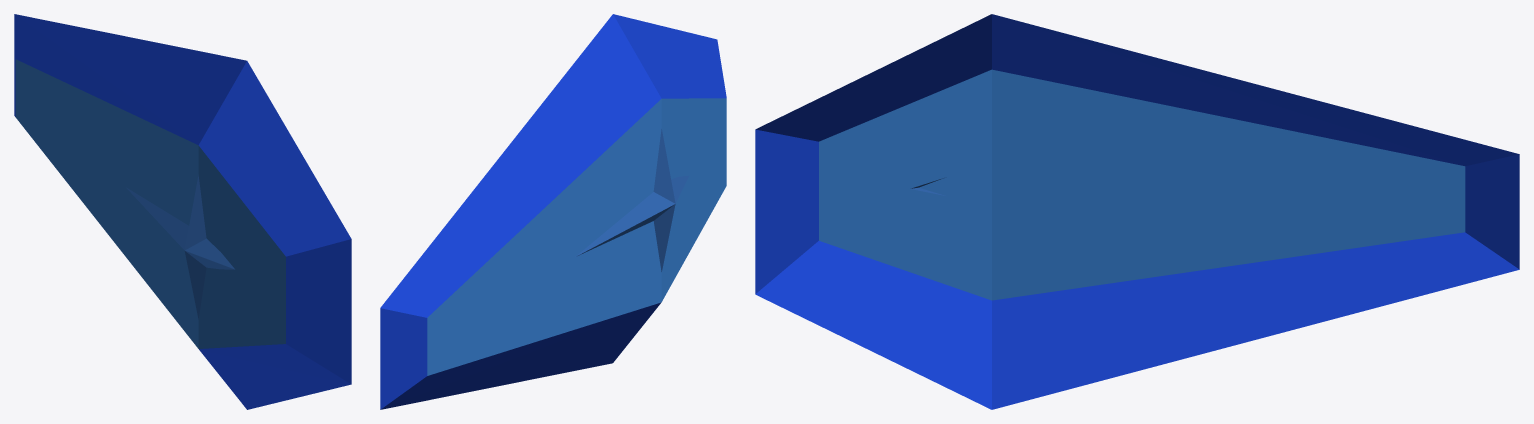
Rendered from Larm.FBX.
3 renders of one model, left to right at view 1: azimuth 30°, elevation 25°; view 2: azimuth 150°, elevation 25°; view 3: azimuth 270°, elevation 25°, orthographic. The views are drawn at different scales.
Parts seen in each view (by area): view 1: VIFS001, VIFS002, VIFS003; view 2: VIFS001, VIFS002, VIFS003; view 3: VIFS001, VIFS002.
Boxes of the visible parts, x1=… form: VIFS001: x1=14, y1=14, x2=351, y2=409; VIFS002: x1=15, y1=59, x2=285, y2=348; VIFS003: x1=126, y1=175, x2=234, y2=319; VIFS001: x1=380, y1=14, x2=726, y2=409; VIFS002: x1=427, y1=98, x2=726, y2=375; VIFS003: x1=575, y1=129, x2=688, y2=271; VIFS001: x1=755, y1=14, x2=1519, y2=409; VIFS002: x1=819, y1=69, x2=1465, y2=300.
Bounding box in the file's own units: 0.2045 × 1.09 × 1.91.
